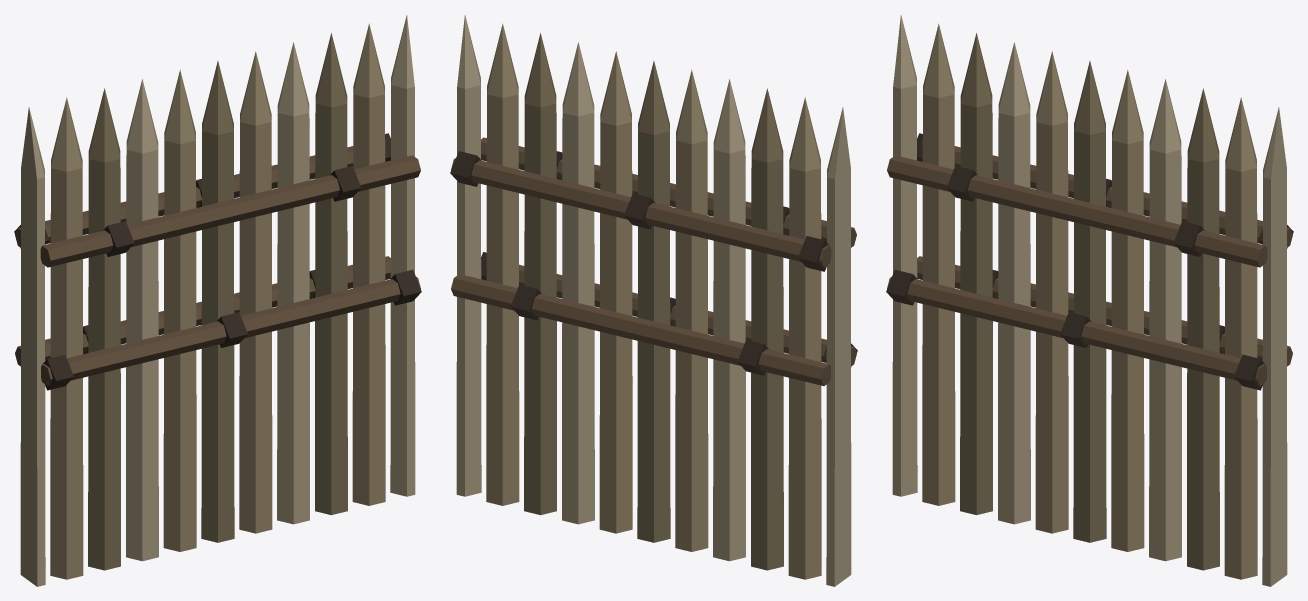
The model's file is wooden-palisade-d4f4db.glb.
3 views of the same model, side by side, from view 1: azimuth 30°, elevation 25°; view 2: azimuth 150°, elevation 25°; view 3: azimuth 330°, elevation 25° (orthographic).
Parts seen in each view (by area): view 1: palisade; view 2: palisade; view 3: palisade.
Boxes of the visible parts, <box> form: palisade: <box>14,15,421,586</box>; palisade: <box>450,15,857,586</box>; palisade: <box>886,15,1293,586</box>.
Size of the model in its own units: 2 by 2.4 by 0.3835.
